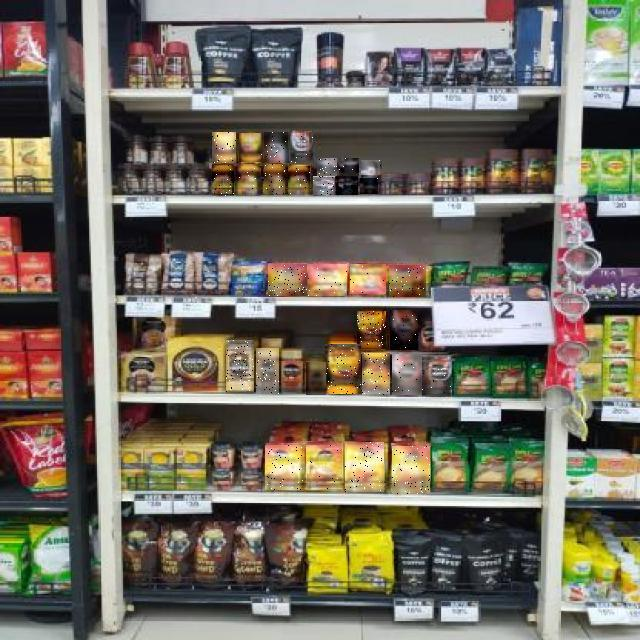Coffee: (345, 442, 384, 492), (392, 446, 430, 494), (325, 344, 361, 394), (266, 445, 304, 490), (307, 445, 343, 490), (226, 340, 254, 392), (268, 264, 307, 296), (308, 264, 347, 296), (393, 354, 423, 395), (423, 355, 453, 396), (390, 265, 428, 297), (362, 354, 390, 396), (390, 310, 418, 350), (357, 311, 386, 349), (351, 264, 387, 294), (256, 349, 279, 395), (290, 130, 313, 164), (237, 164, 261, 196), (264, 132, 288, 163), (212, 132, 236, 163), (212, 164, 234, 196), (239, 133, 263, 162), (306, 362, 326, 395), (264, 164, 285, 194), (288, 166, 310, 194), (313, 176, 335, 196), (337, 176, 359, 195), (339, 158, 359, 176), (317, 159, 337, 177), (362, 160, 382, 175), (360, 178, 378, 194)
